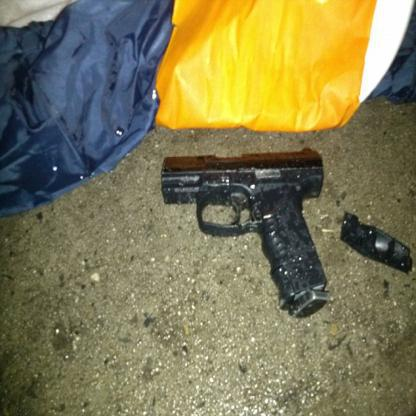pistol: (157, 147, 336, 321)
